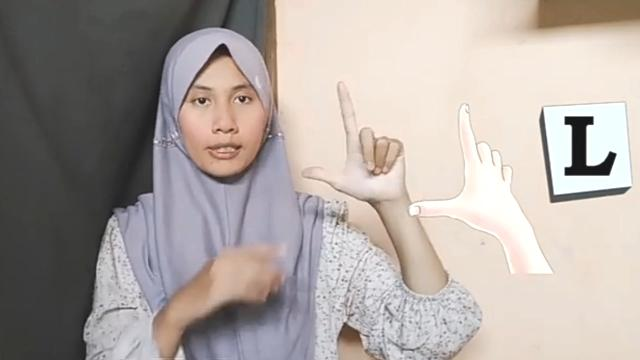L: (296, 76, 408, 204)
